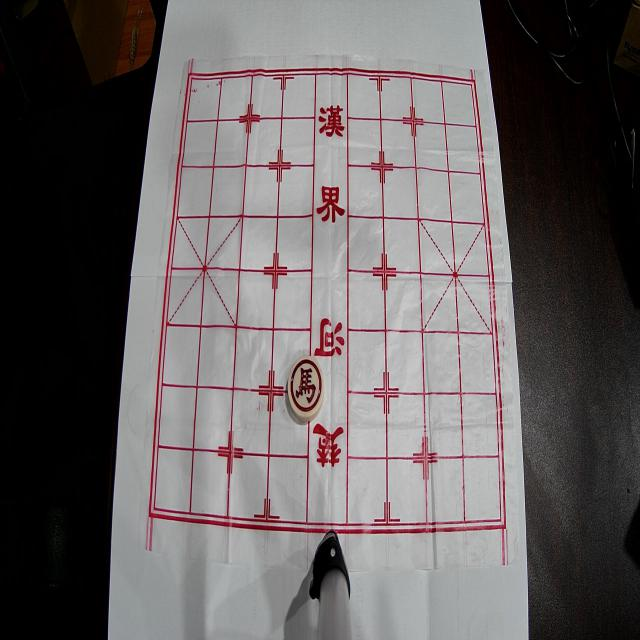red-horse: (288, 355, 324, 421)
